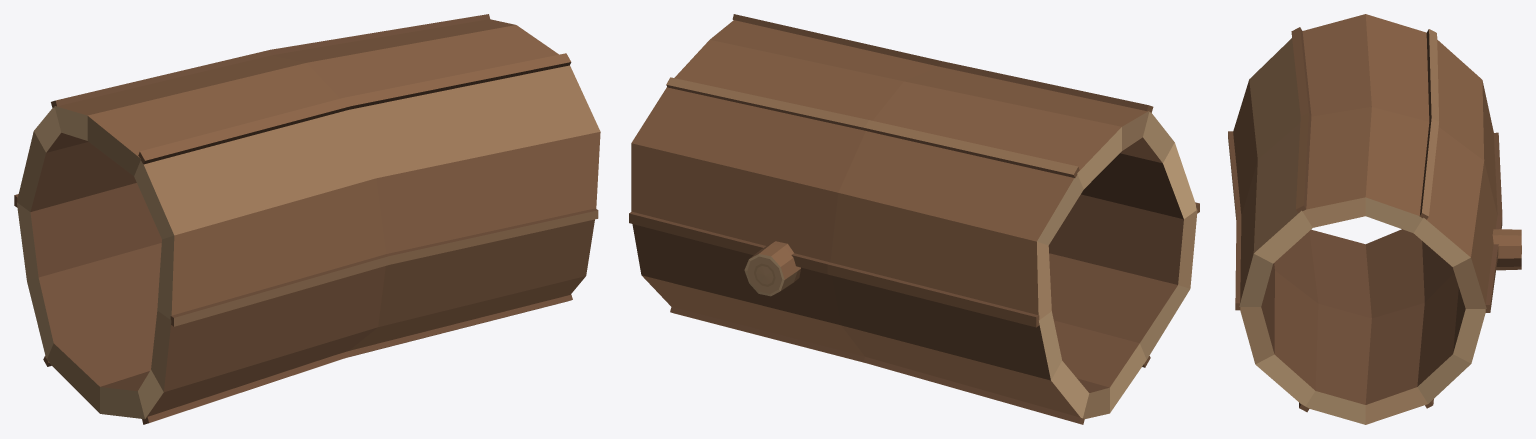
Rendered from Hollow_Log.glb.
3 views of the same model, side by side, from view 1: azimuth 30°, elevation 25°; view 2: azimuth 150°, elevation 25°; view 3: azimuth 270°, elevation 25° (orthographic). The views are drawn at different scales.
Parts seen in each view (by area): view 1: Hollow_Log; view 2: Hollow_Log; view 3: Hollow_Log.
Boxes of the visible parts, box(x1,y1,x2,y2) form: Hollow_Log: box(14, 14, 600, 424); Hollow_Log: box(629, 14, 1199, 424); Hollow_Log: box(1228, 14, 1521, 424).
Size of the model in its own units: 3.75 by 2.42 by 2.6.
